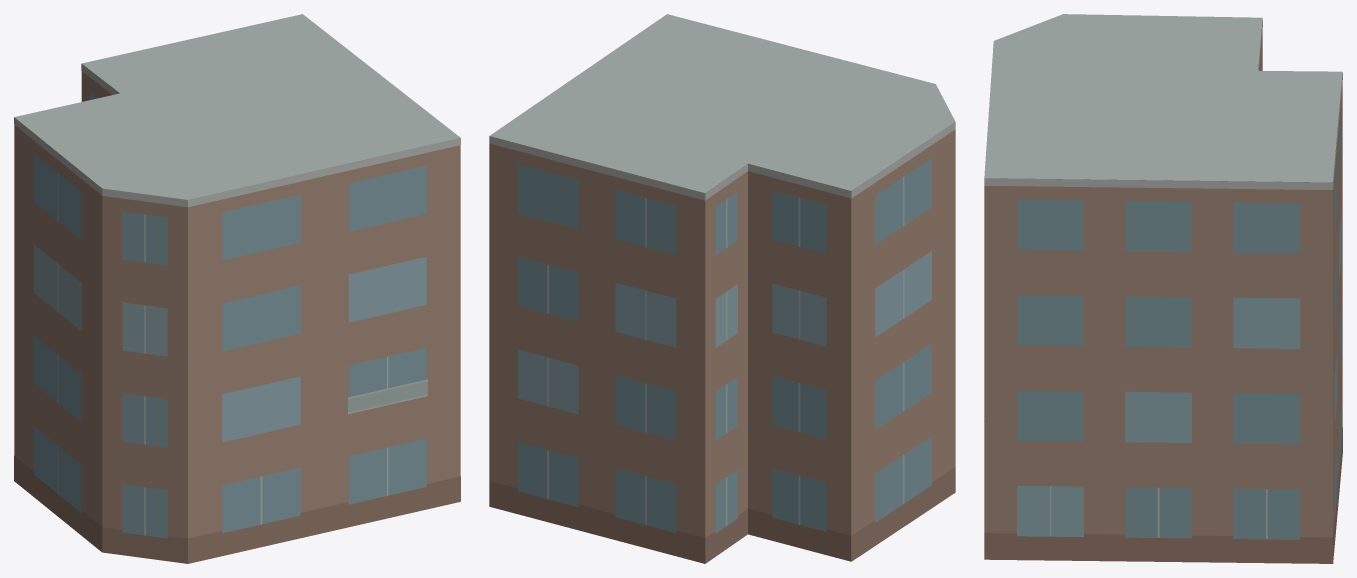
The model's file is survey-upis-32661107.glb.
The picture shows the model from 3 angles, left to right: view 1: azimuth 30°, elevation 25°; view 2: azimuth 150°, elevation 25°; view 3: azimuth 270°, elevation 25°; orthographic projection. The views are drawn at different scales.
Visible parts, largest first — view 1: survey-upis-32661107.tmp; view 2: survey-upis-32661107.tmp; view 3: survey-upis-32661107.tmp.
Part boxes in pixels (x1,y1,x2,y2): survey-upis-32661107.tmp: [14, 14, 460, 563]; survey-upis-32661107.tmp: [489, 14, 955, 563]; survey-upis-32661107.tmp: [984, 14, 1342, 563].
Bounding box in the file's own units: 11.46 × 12.1 × 10.32.
